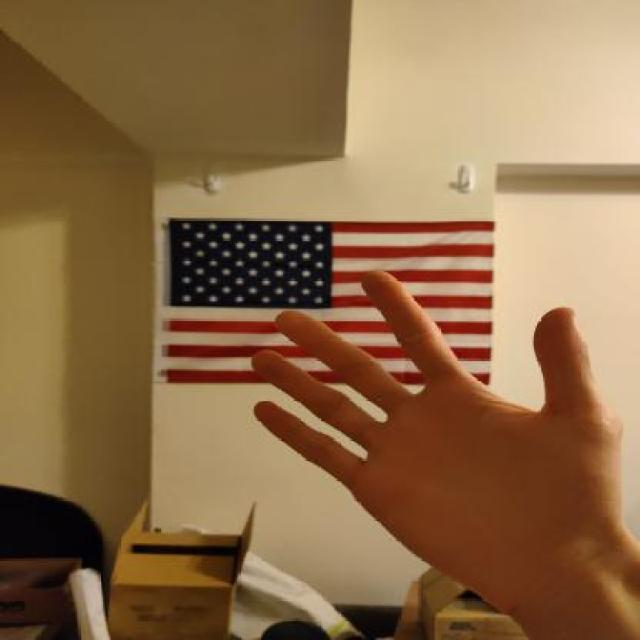bare_hand: (235, 256, 640, 638)
